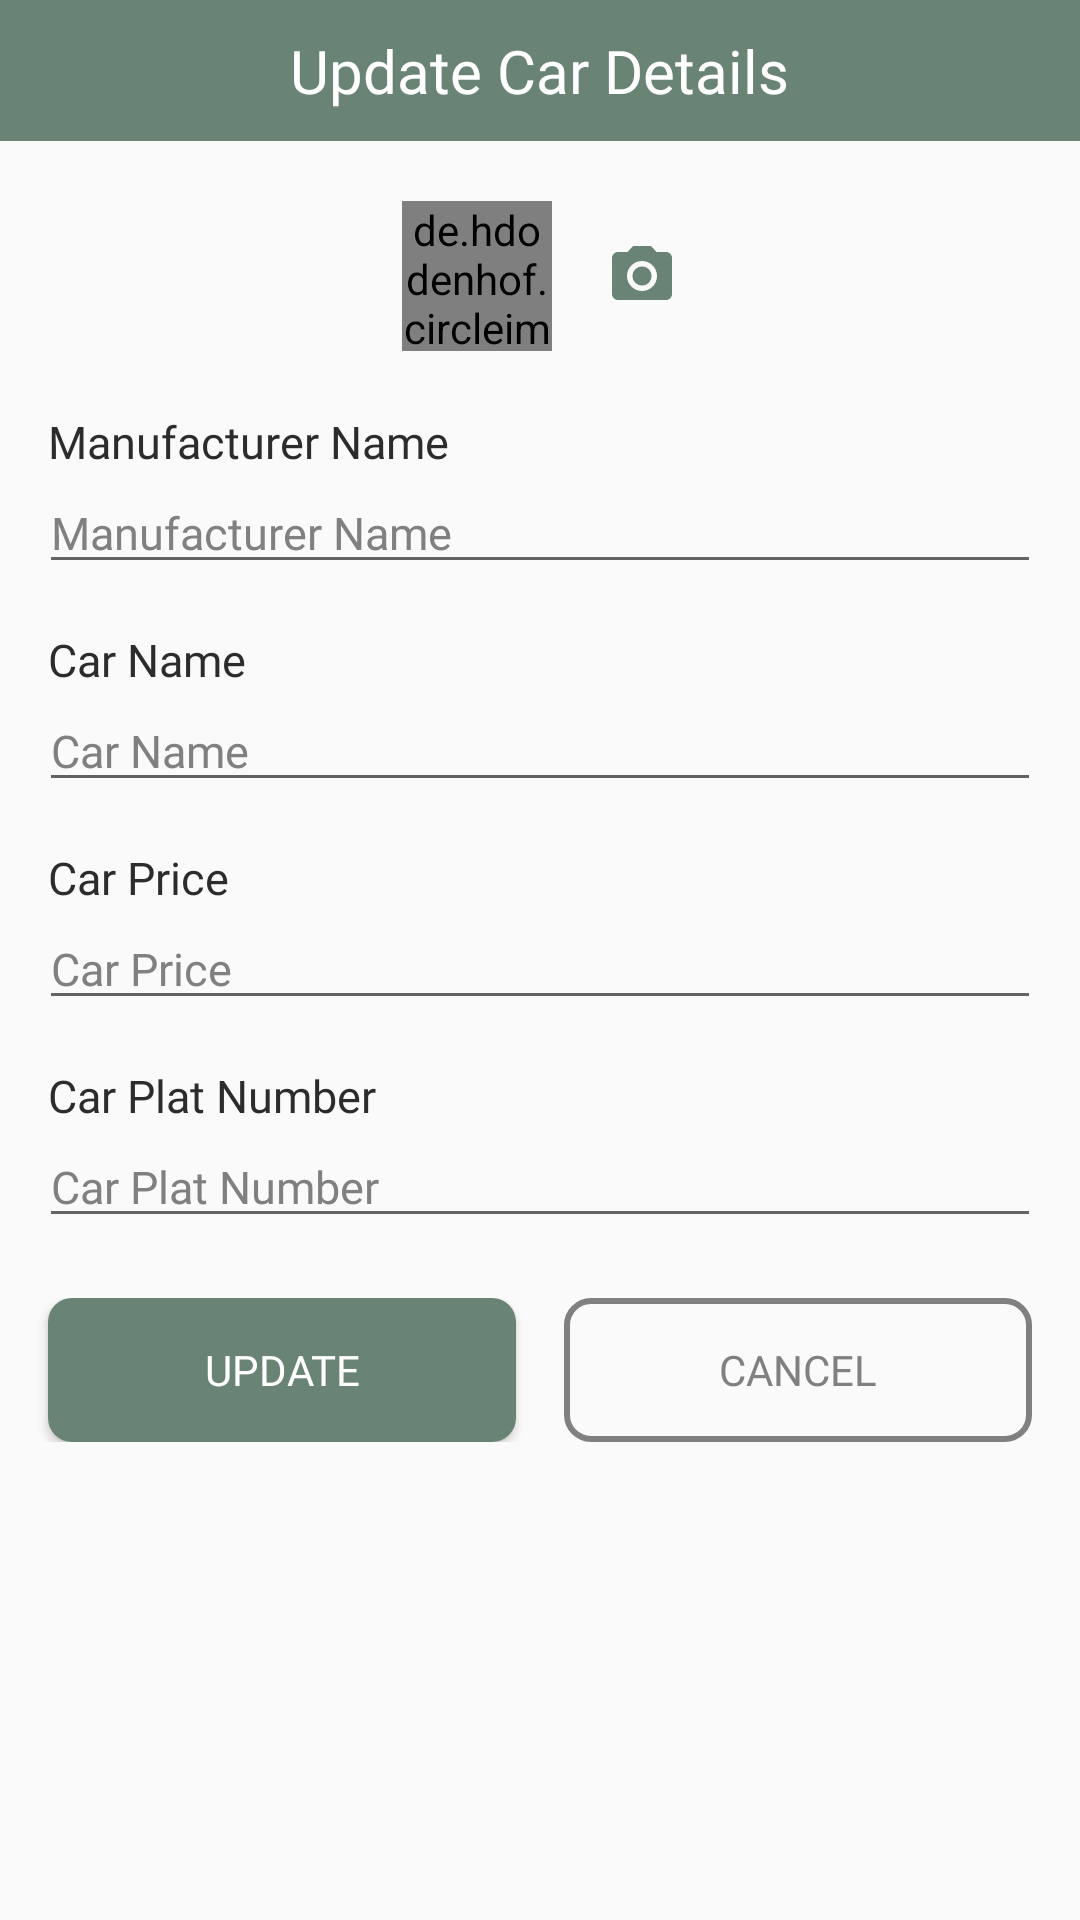

Locate icon controls on the screen. Image size 1080 x 1920, boxes as (x1, y1, x2, y2).
photo camera: (612, 246, 672, 300)
